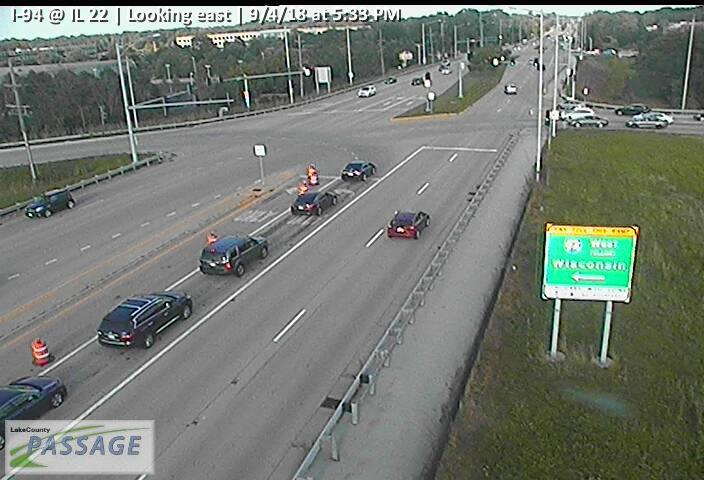SUV: (97, 291, 193, 350), (1, 374, 67, 447), (199, 234, 269, 278), (24, 189, 75, 220), (558, 105, 595, 119), (357, 85, 376, 97), (504, 83, 518, 94)
Sedan: (386, 211, 431, 240), (291, 190, 338, 216), (341, 160, 377, 181), (626, 115, 667, 130), (567, 114, 608, 128), (615, 104, 651, 117)
